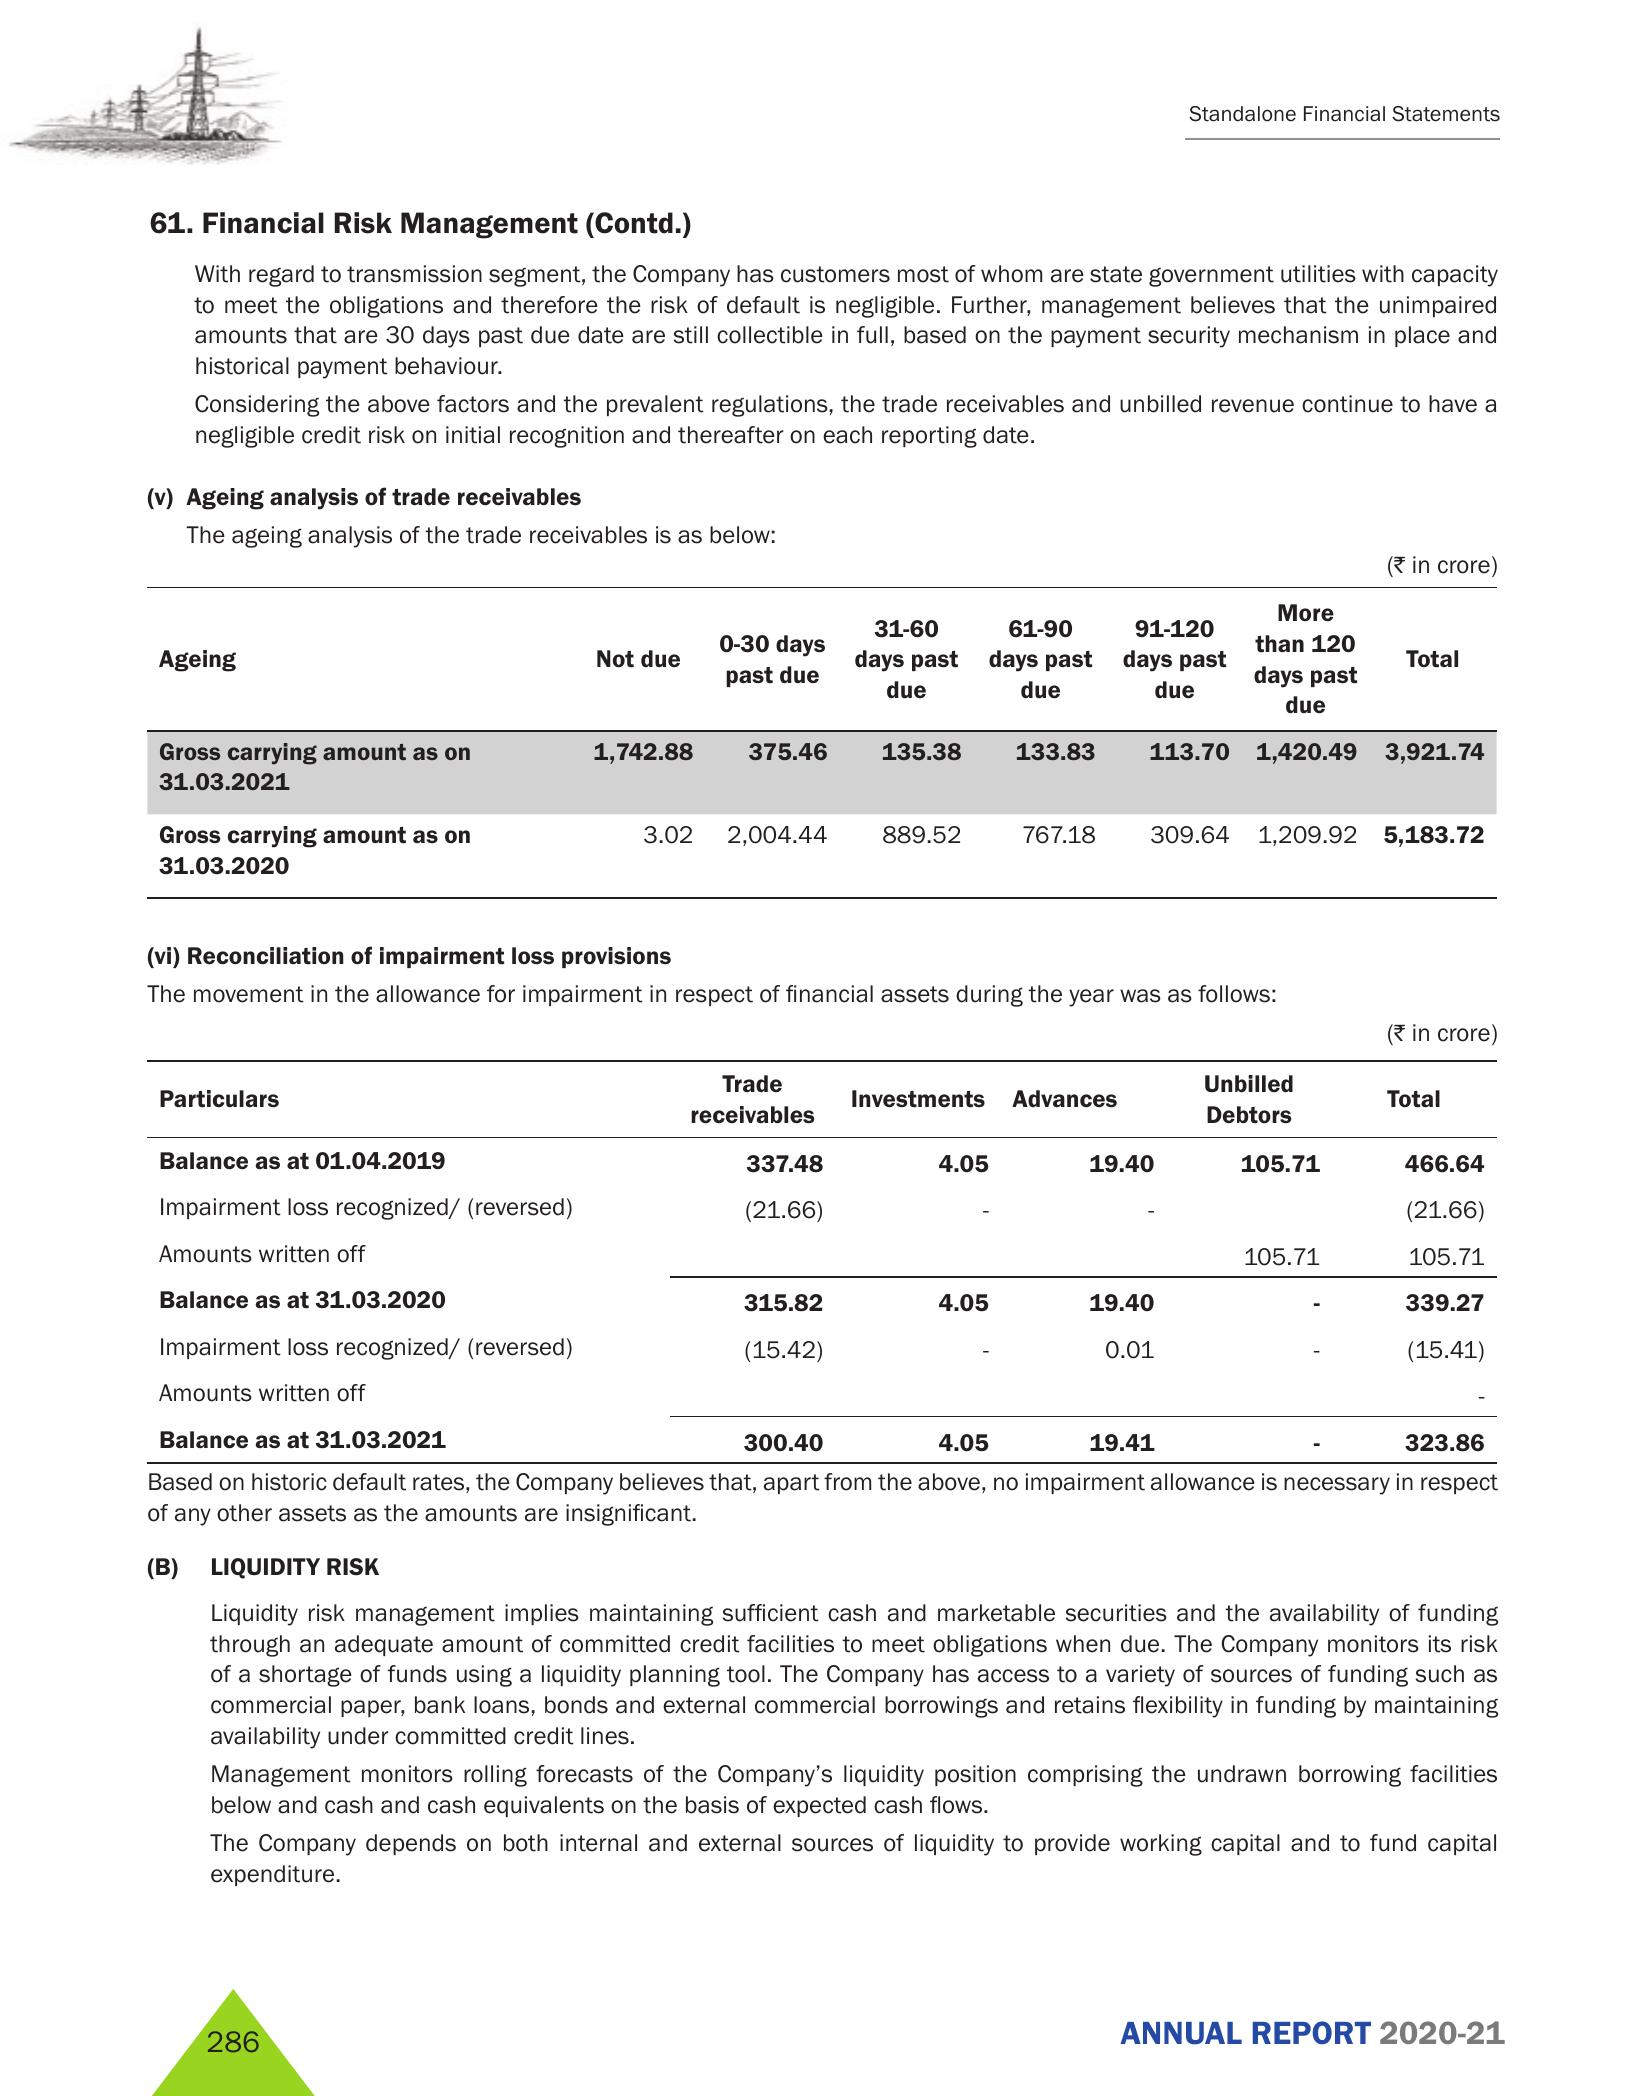Footer: (0, 1979, 1650, 2096)
Header: (0, 0, 1650, 180)
Table: (114, 1055, 1499, 1463), (126, 584, 1499, 932)
